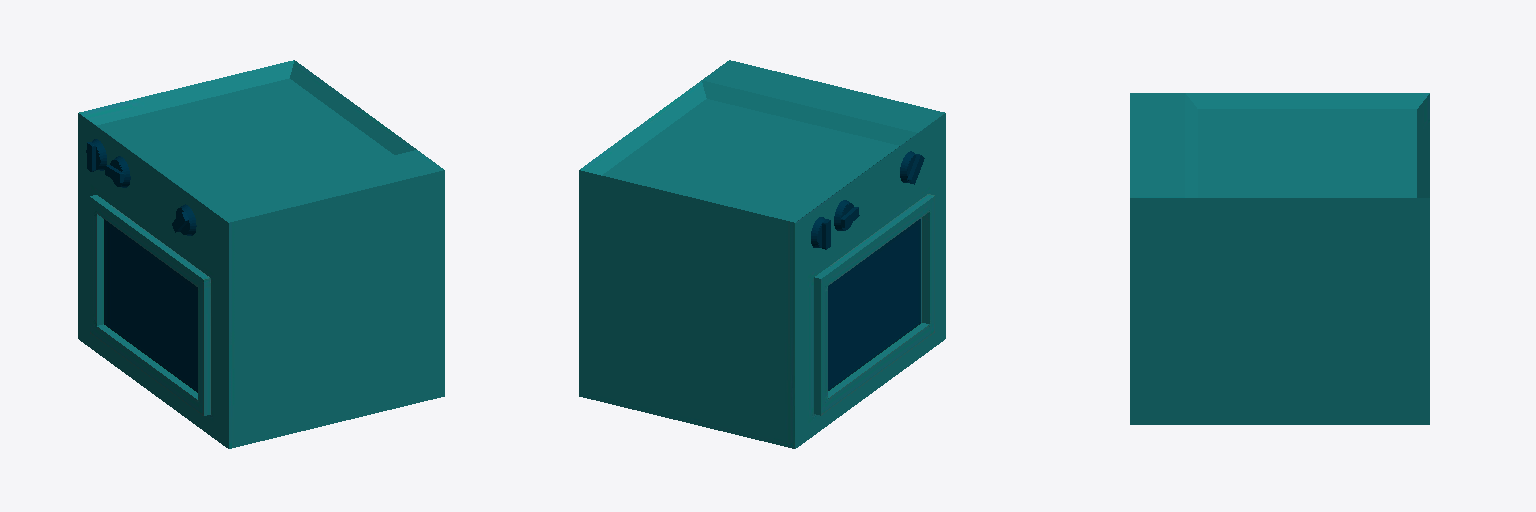
The picture shows the model from 3 angles: view 1: azimuth 30°, elevation 25°; view 2: azimuth 150°, elevation 25°; view 3: azimuth 270°, elevation 25°; orthographic projection.
Visible parts, largest first — view 1: Cuerpo.001_Cube.013, perilla.004_Cube.011, perilla.003_Cube.006, perilla.005_Cube.012; view 2: Cuerpo.001_Cube.013, perilla.003_Cube.006, perilla.004_Cube.011, perilla.005_Cube.012; view 3: Cuerpo.001_Cube.013.
Part boxes in pixels (bbox=[...]): Cuerpo.001_Cube.013: bbox=[78, 60, 444, 448]; perilla.004_Cube.011: bbox=[105, 156, 130, 187]; perilla.003_Cube.006: bbox=[172, 204, 196, 235]; perilla.005_Cube.012: bbox=[86, 139, 106, 171]; Cuerpo.001_Cube.013: bbox=[579, 60, 945, 448]; perilla.003_Cube.006: bbox=[900, 151, 924, 184]; perilla.004_Cube.011: bbox=[834, 200, 859, 230]; perilla.005_Cube.012: bbox=[811, 217, 830, 249]; Cuerpo.001_Cube.013: bbox=[1130, 93, 1429, 424].
Bounding box in the file's own units: 3.43 × 3.26 × 3.92.
2 materials, 2 textured.